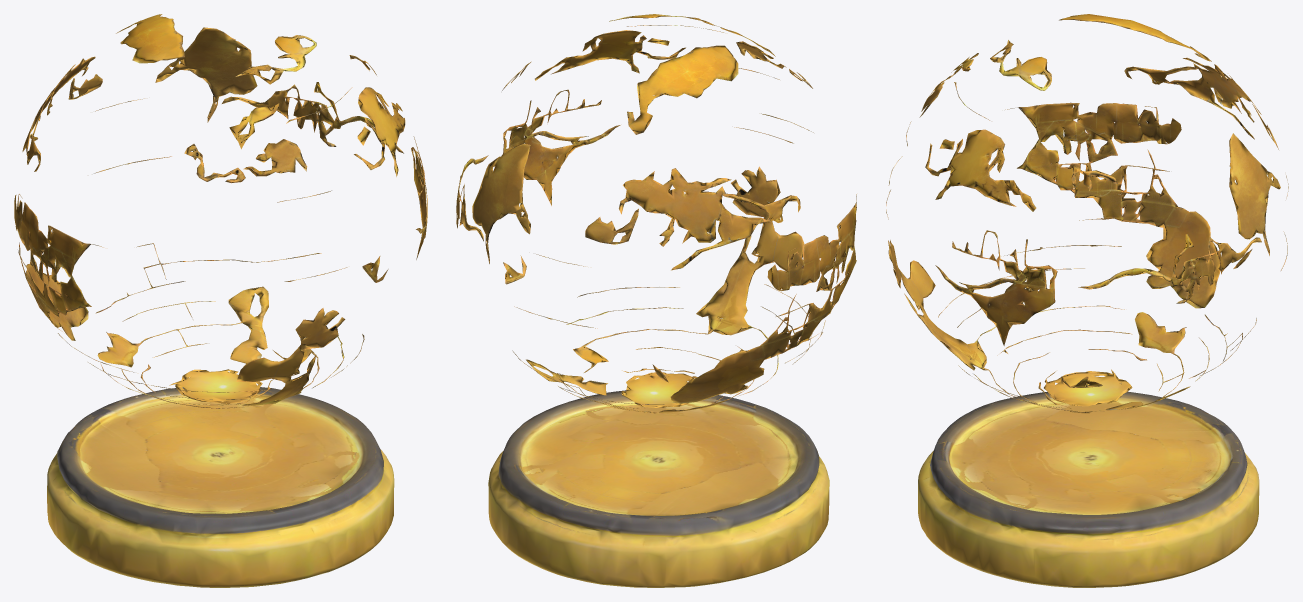
The model's file is Create_a_stylized_fu_0528204503_texture.glb.
3 renders of one model, left to right at view 1: azimuth 30°, elevation 25°; view 2: azimuth 150°, elevation 25°; view 3: azimuth 270°, elevation 25°, orthographic. The views are drawn at different scales.
Size of the model in its own units: 1.52 by 1.98 by 1.51.
Materials: 1 (1 with a texture image).
